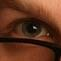eye: (23, 21, 40, 36)
